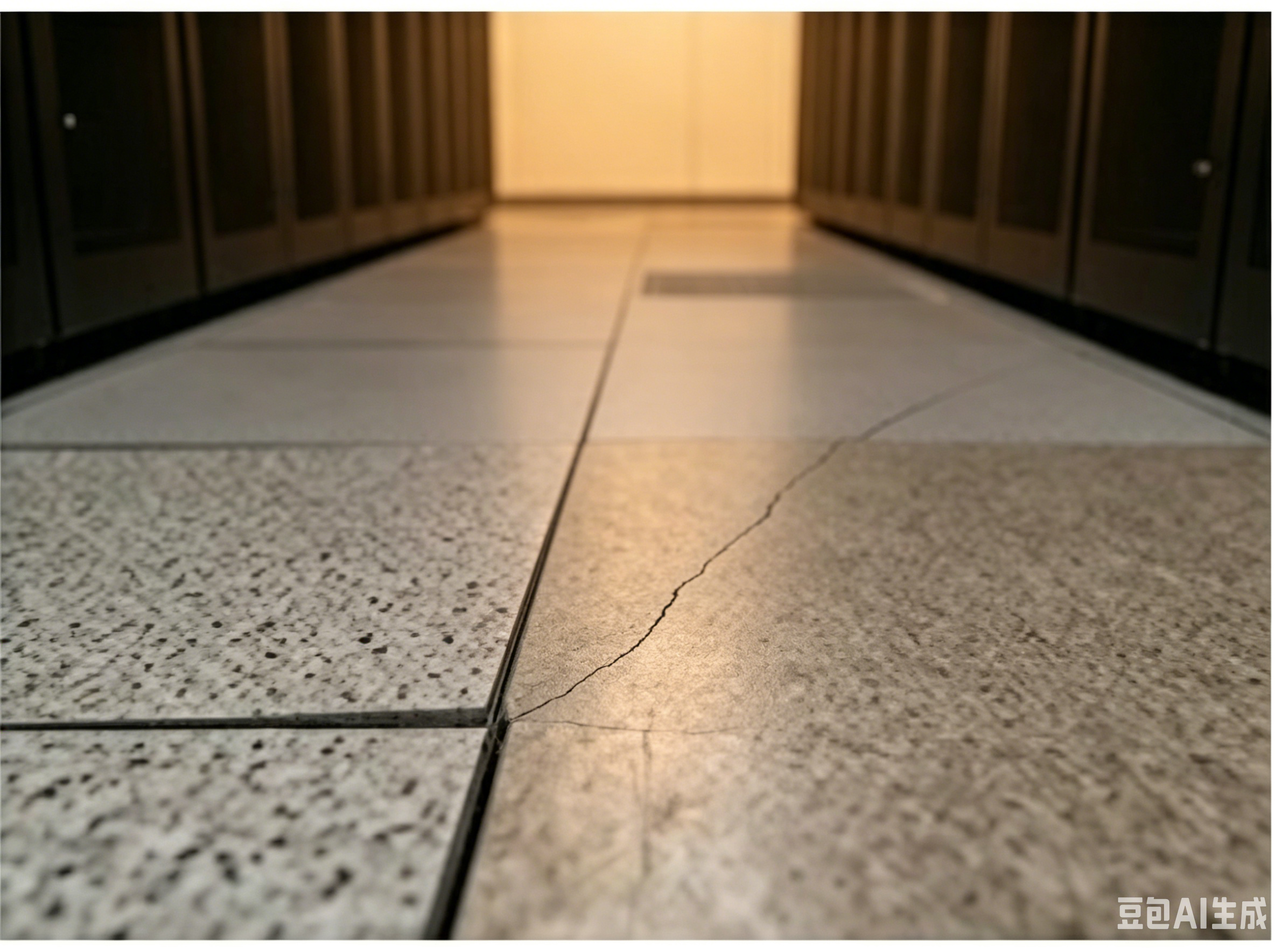floor_defect: (7, 690, 555, 737), (424, 744, 496, 943), (624, 570, 725, 646), (764, 417, 840, 508), (694, 505, 806, 565), (560, 644, 646, 701)
